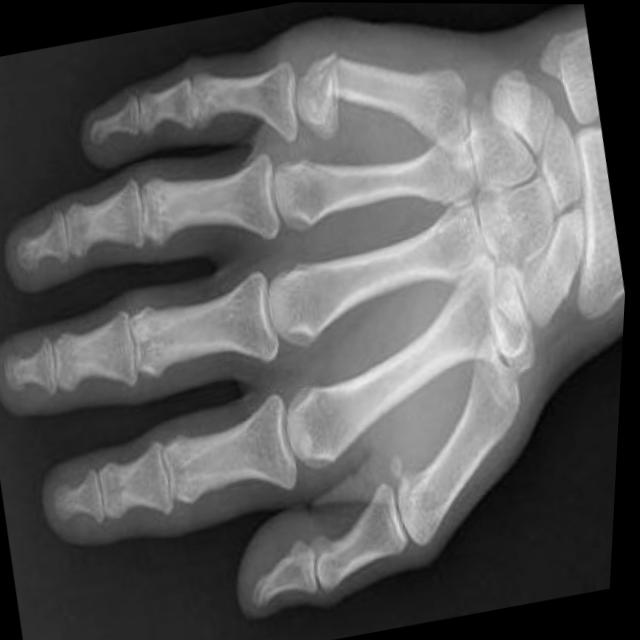fracture: (306, 42, 370, 146)
